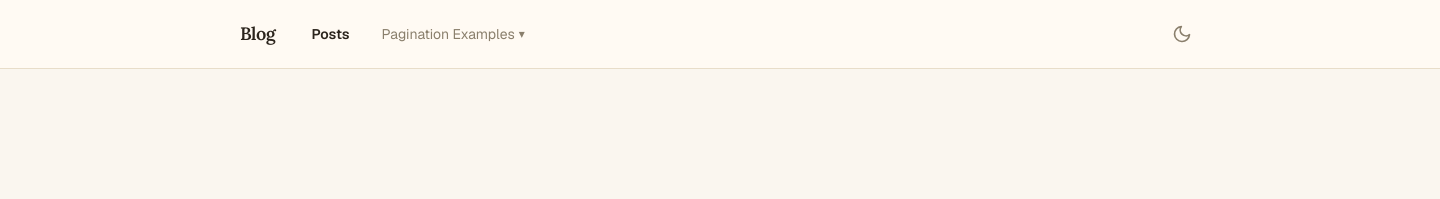
Test: Nav › closes the menu when clicking a menu item
What coordinates should you click on to do the following:
click the button "Pagination Examples ▾"
I would click on:
 (453, 34)
Its box is [370,16,537,52].
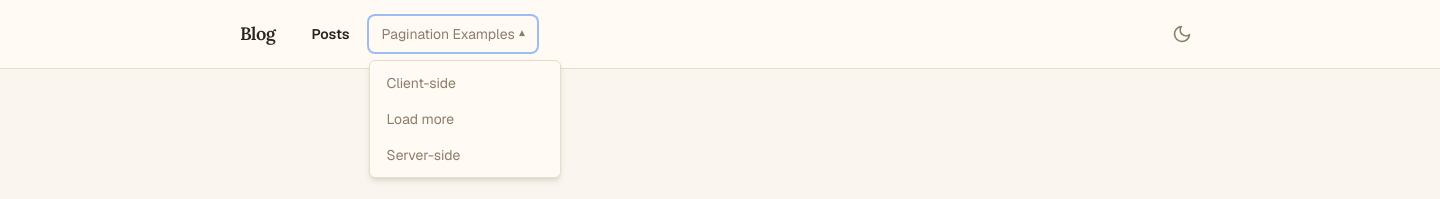
What coordinates should you click on to do the following:
click the menu item "Load more"
I would click on:
 (420, 119)
Its box is [386,110,454,128].
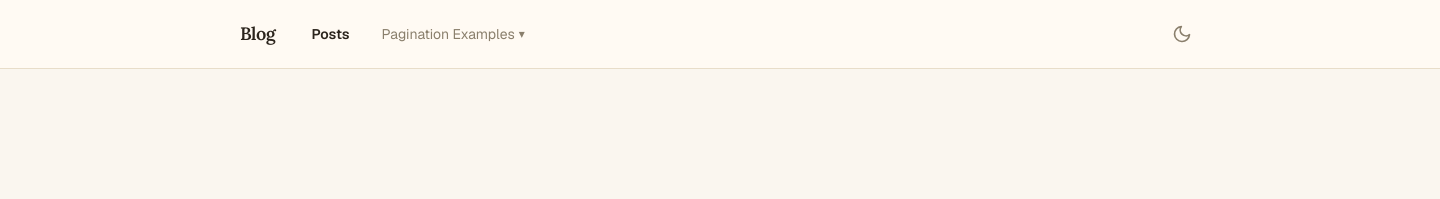
expect the menu item "Load more" is gone: met
